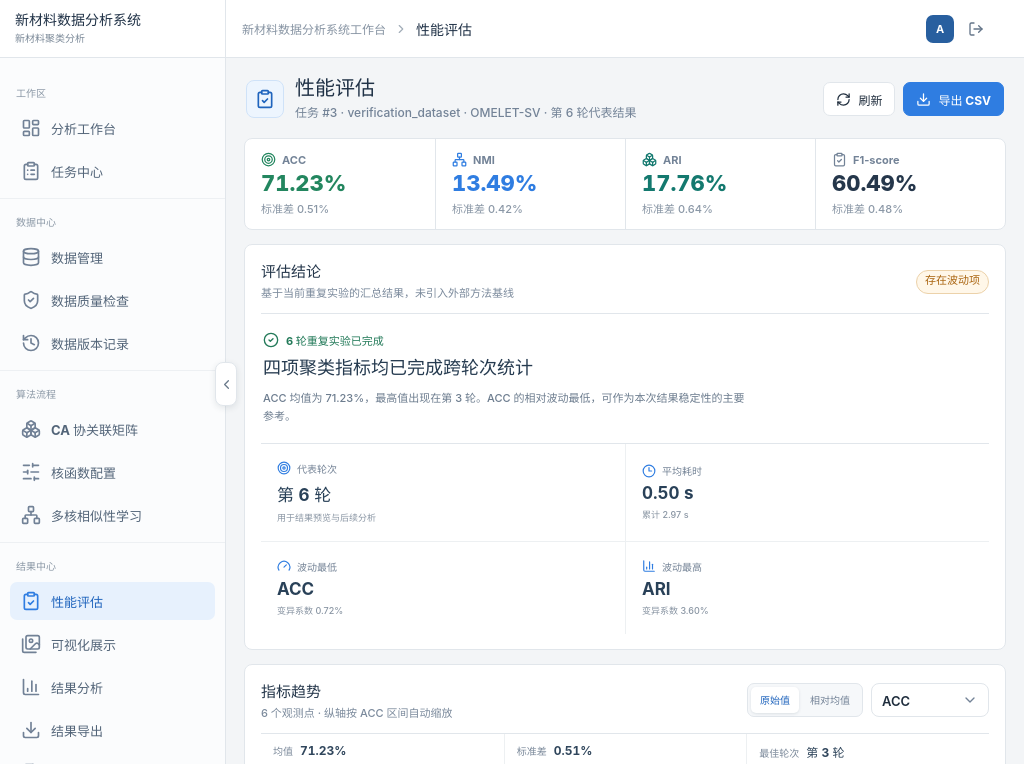
Scenario: dashboard homepage › renders the performance review workspace and synchronizes the focused metric
Expected: the heading "性能评估" is shown, [295, 76, 375, 101]
Expected: the element "评估结论" is shown, [244, 244, 1006, 650]
Click the dropdown named "突出评估指标" at [930, 700], box [871, 683, 989, 717]
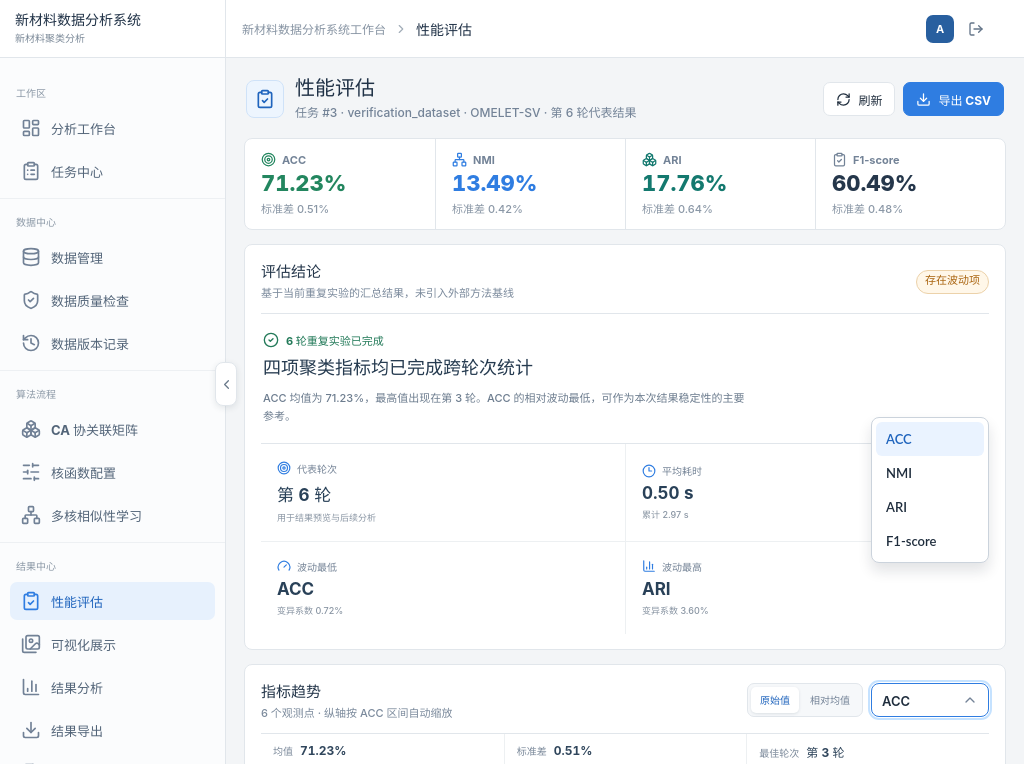
Click the option "NMI" at [899, 473], box [886, 465, 912, 481]
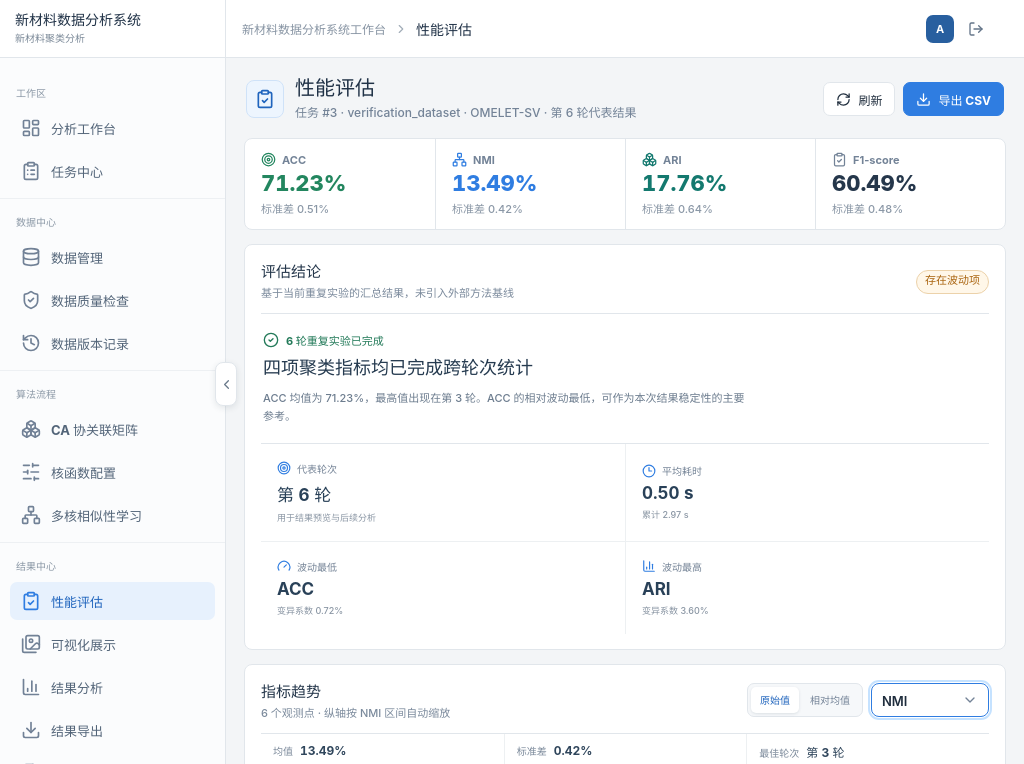
Now the dropdown named "突出评估指标" reads "NMI", box [871, 683, 989, 717]
Click the button "相对均值" at [830, 700], box [801, 687, 859, 713]
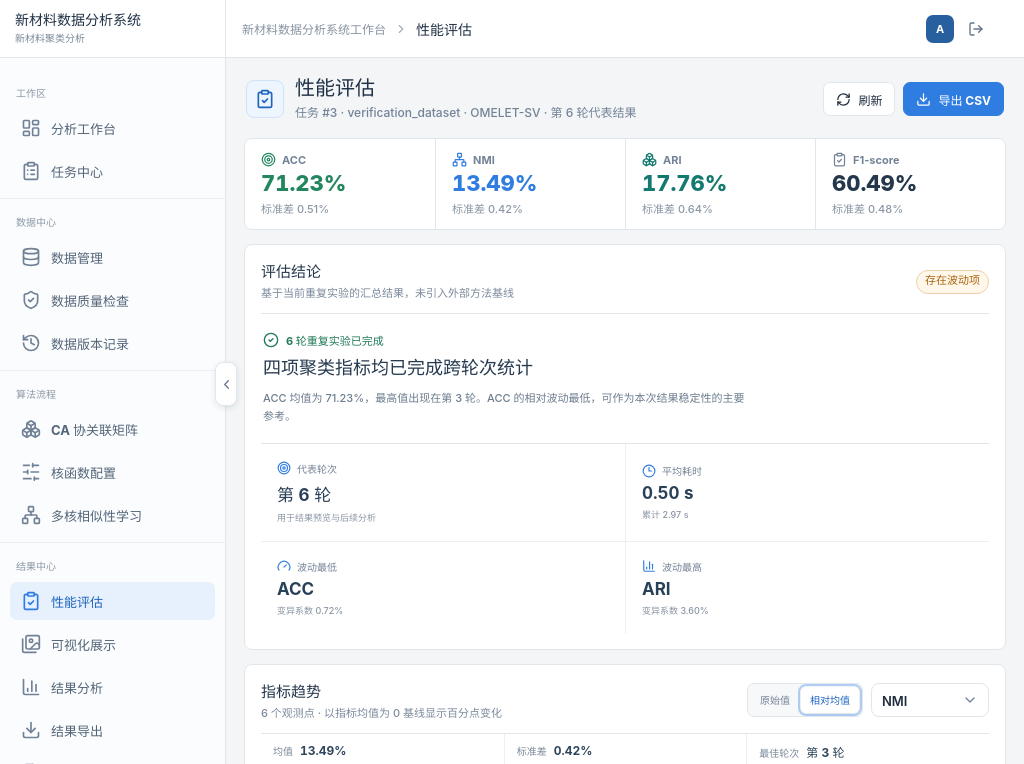
Now the text "6 个观测点 · 以指标均值为 0 基线显示百分点变化" is shown, box [261, 704, 502, 720]
